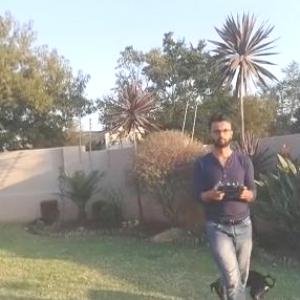follow: (190, 107, 264, 299)
